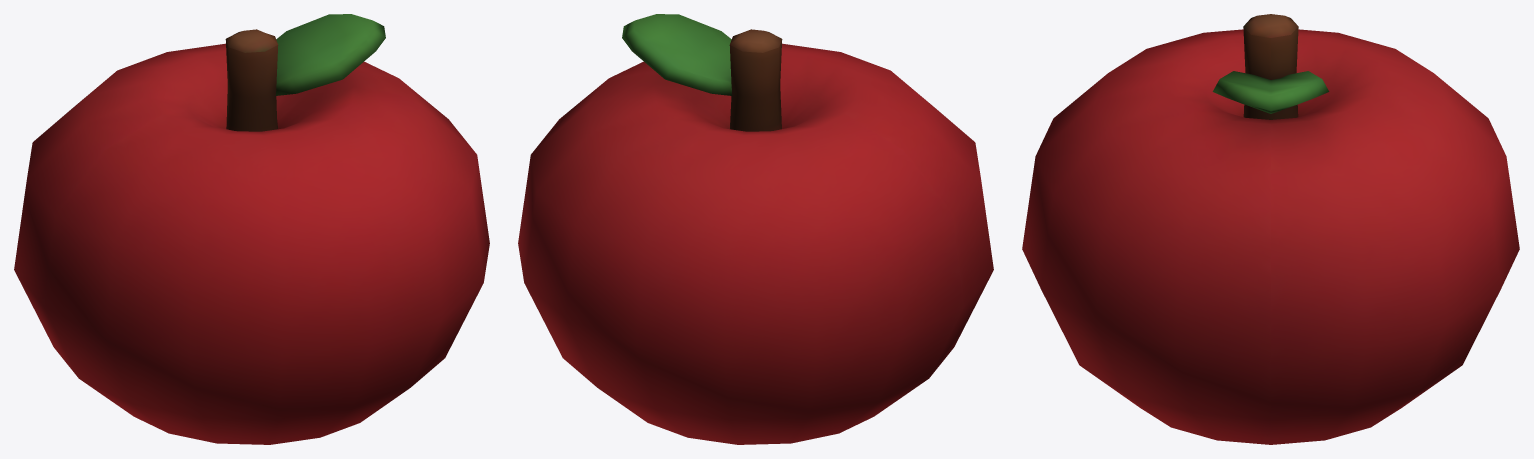
Rendered from apple.glb.
3 renders of one model, left to right at view 1: azimuth 30°, elevation 25°; view 2: azimuth 150°, elevation 25°; view 3: azimuth 270°, elevation 25°, orthographic. The views are drawn at different scales.
Visible parts, largest first — view 1: geometry_0; view 2: geometry_0; view 3: geometry_0.
Boxes of the visible parts, x1=… form: geometry_0: x1=14, y1=14, x2=489, y2=444; geometry_0: x1=518, y1=14, x2=993, y2=444; geometry_0: x1=1022, y1=14, x2=1519, y2=444.
Size of the model in its own units: 3.23 by 2.69 by 3.23.
1 material, 1 textured.
